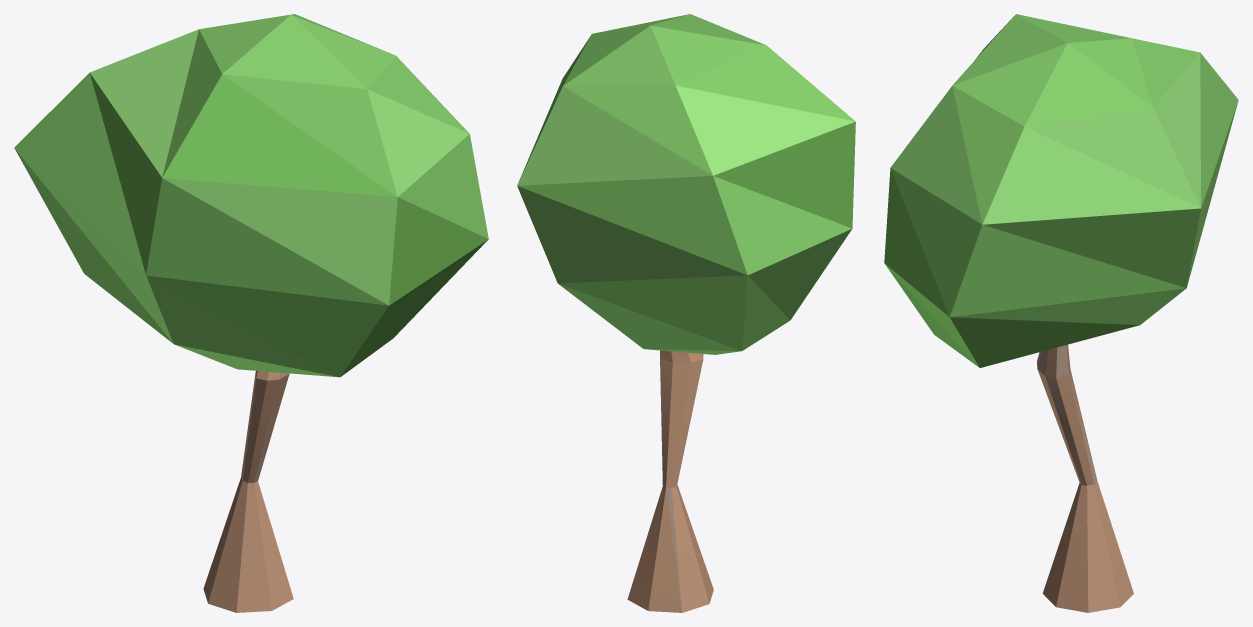
File: tree01.fbx
3 views of the same model, side by side, from view 1: azimuth 30°, elevation 25°; view 2: azimuth 150°, elevation 25°; view 3: azimuth 270°, elevation 25° (orthographic). The views are drawn at different scales.
Visible parts, largest first — view 1: tree01; view 2: tree01; view 3: tree01.
Boxes of the visible parts, left/top/right/bottom form: tree01: left=14, top=14, right=488, bottom=612; tree01: left=517, top=14, right=855, bottom=612; tree01: left=884, top=14, right=1238, bottom=612.
Size of the model in its own units: 345 by 584 by 332.
5 materials, 5 textured.
